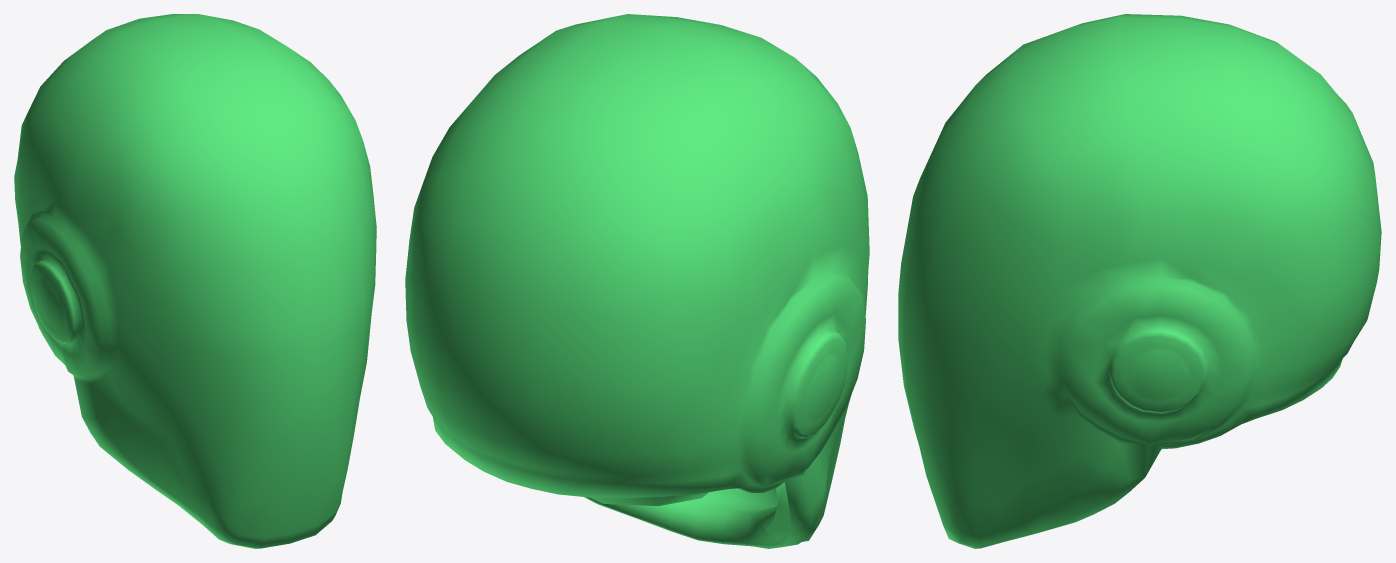
Rendered from head.fbx.
3 renders of one model, left to right at view 1: azimuth 30°, elevation 25°; view 2: azimuth 150°, elevation 25°; view 3: azimuth 270°, elevation 25°, orthographic. The views are drawn at different scales.
Parts seen in each view (by area): view 1: Plane.002; view 2: Plane.002; view 3: Plane.002.
Part boxes in pixels (x1,y1,x2,y2): Plane.002: (14, 14, 376, 548); Plane.002: (405, 14, 869, 548); Plane.002: (898, 14, 1381, 548).
Size of the model in its own units: 21.91 by 31.15 by 27.52.
